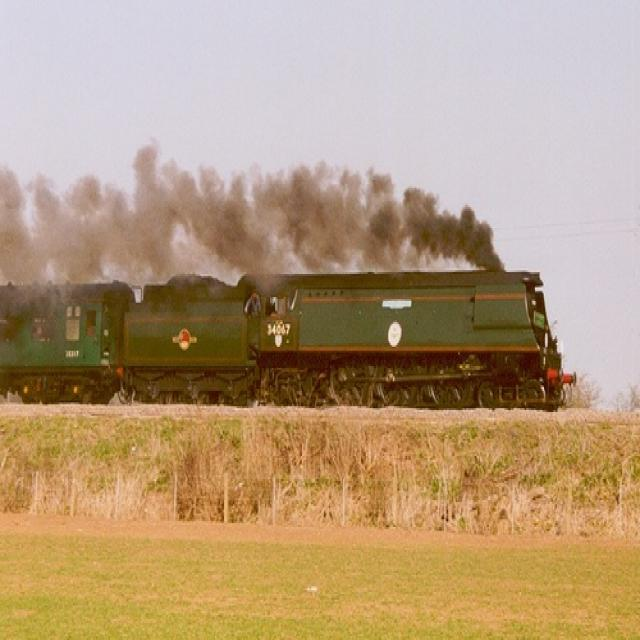train: (0, 266, 580, 406)
